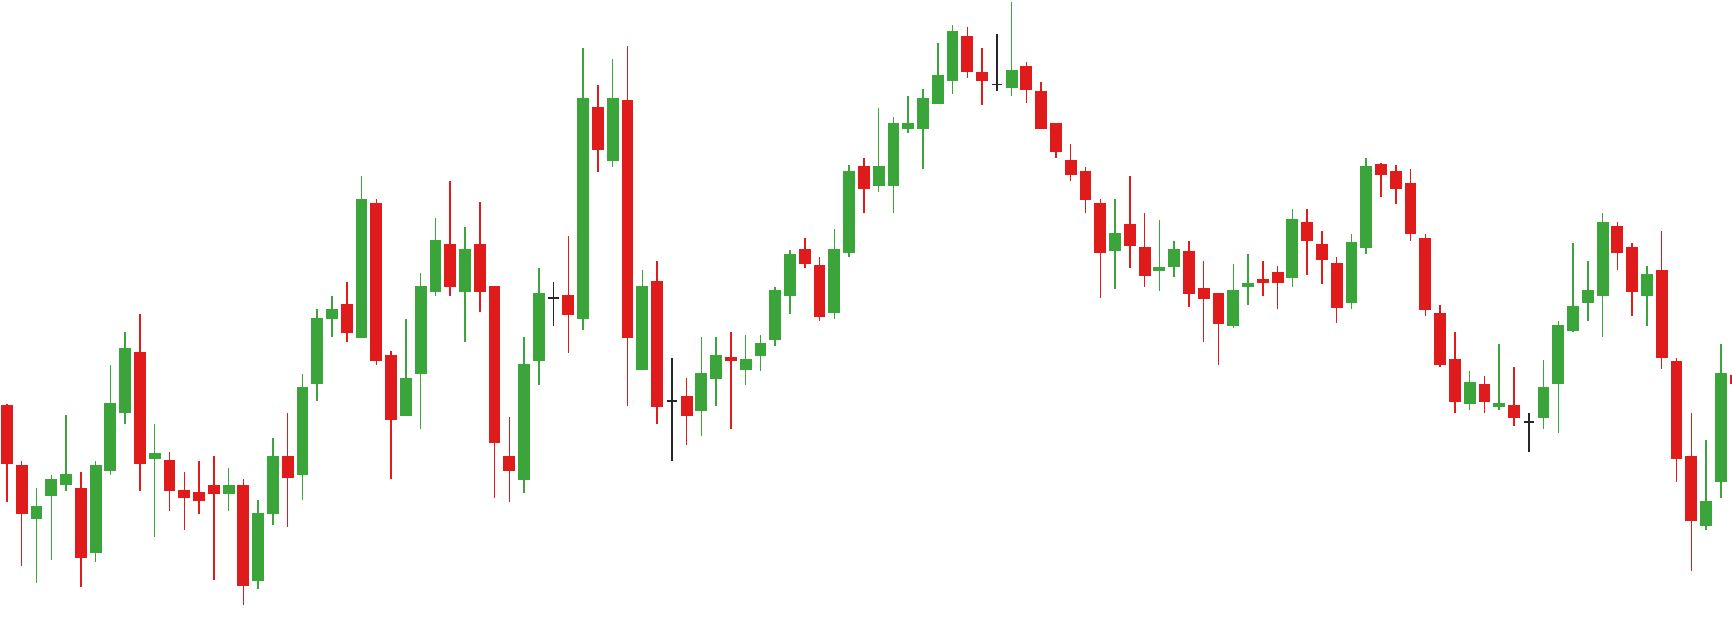buy: (382, 288, 534, 498)
sell: (1284, 157, 1417, 276)
